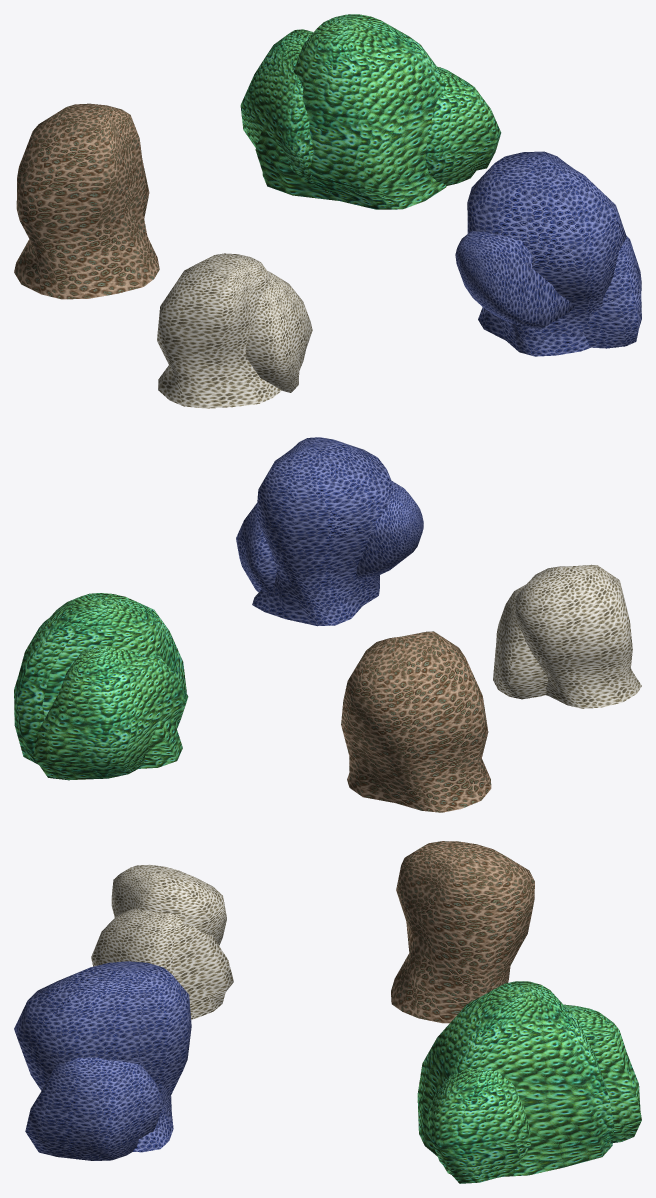
The model's file is SG_envProp_Coral1v1.FBX.
The picture shows the model from 3 angles, top to bottom: view 1: azimuth 30°, elevation 25°; view 2: azimuth 150°, elevation 25°; view 3: azimuth 270°, elevation 25°; orthographic projection. The views are drawn at different scales.
Parts seen in each view (by area): view 1: SG_envProp_Coral1v4, SG_envProp_Coral1v1, SG_envProp_Coral1v3, SG_envProp_Coral1v2; view 2: SG_envProp_Coral1v4, SG_envProp_Coral1v1, SG_envProp_Coral1v3, SG_envProp_Coral1v2; view 3: SG_envProp_Coral1v4, SG_envProp_Coral1v1, SG_envProp_Coral1v3, SG_envProp_Coral1v2.
Part boxes in pixels (<box>): SG_envProp_Coral1v4: <box>240,14,501,209</box>; SG_envProp_Coral1v1: <box>455,151,641,356</box>; SG_envProp_Coral1v3: <box>14,103,159,299</box>; SG_envProp_Coral1v2: <box>157,253,312,408</box>; SG_envProp_Coral1v4: <box>14,593,188,780</box>; SG_envProp_Coral1v1: <box>236,437,423,626</box>; SG_envProp_Coral1v3: <box>341,631,491,812</box>; SG_envProp_Coral1v2: <box>493,564,641,708</box>; SG_envProp_Coral1v4: <box>417,981,641,1183</box>; SG_envProp_Coral1v1: <box>14,961,191,1160</box>; SG_envProp_Coral1v3: <box>391,841,534,1023</box>; SG_envProp_Coral1v2: <box>91,864,233,1019</box>.
Bounding box in the file's own units: 0.7706 × 0.2491 × 0.8924.
